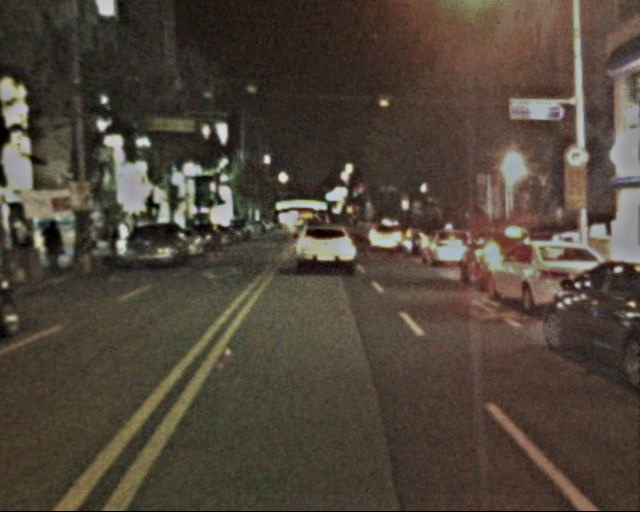person: (42, 217, 73, 272)
